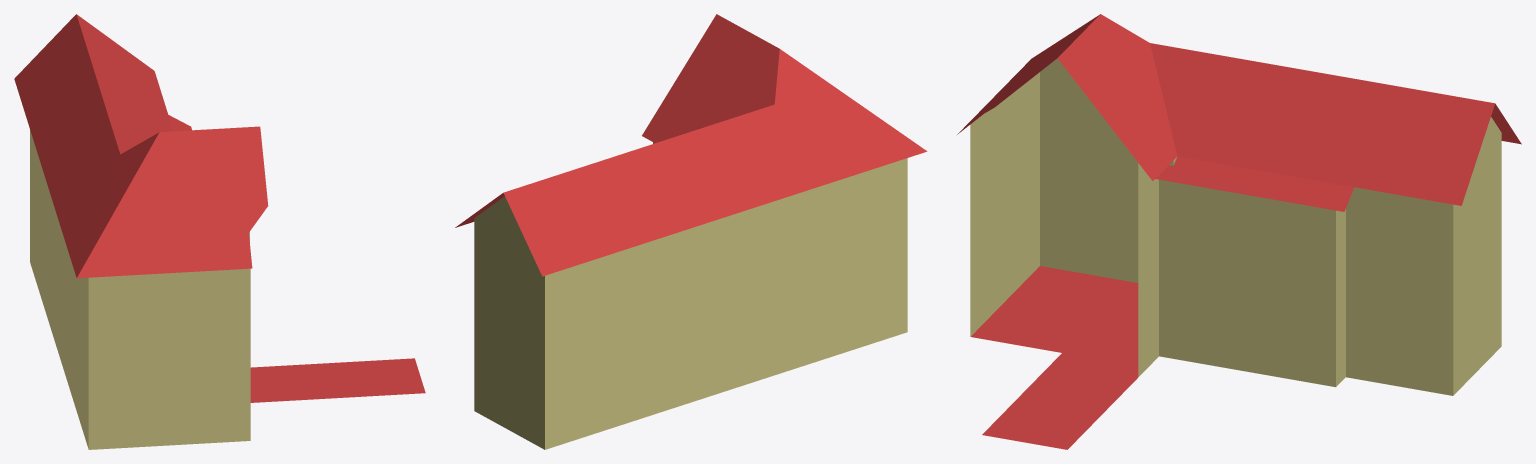
The picture shows the model from 3 angles, left to right: view 1: azimuth 30°, elevation 25°; view 2: azimuth 150°, elevation 25°; view 3: azimuth 270°, elevation 25°; orthographic projection. The views are drawn at different scales.
Size of the model in its own units: 21.85 by 27.13 by 16.15.
